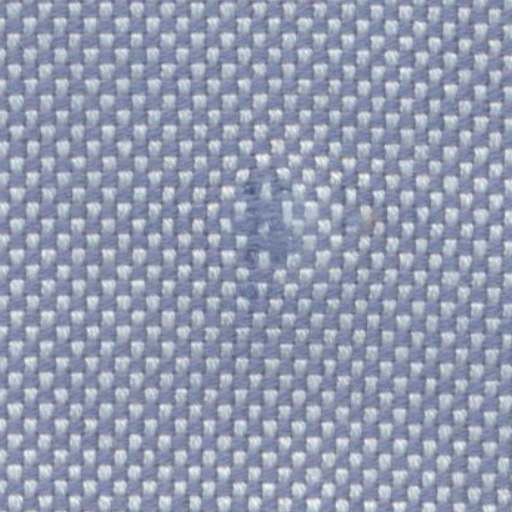MianQiu: (220, 164, 338, 282)
